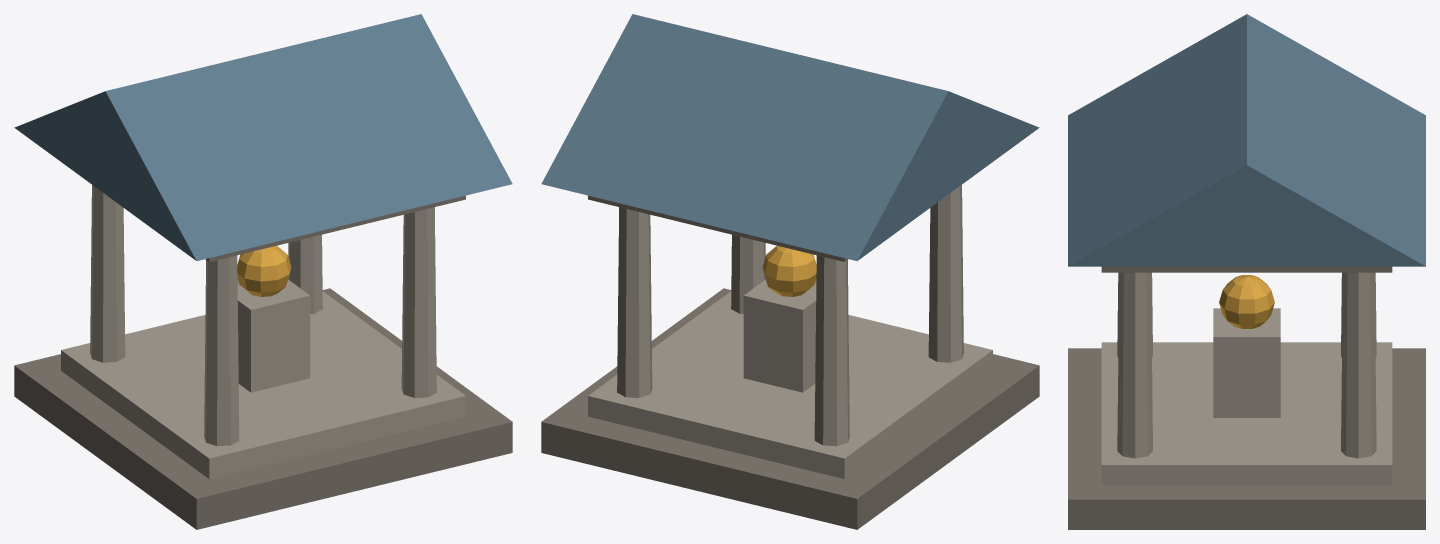
The model's file is shrine.glb.
3 views of the same model, side by side, from view 1: azimuth 30°, elevation 25°; view 2: azimuth 150°, elevation 25°; view 3: azimuth 270°, elevation 25° (orthographic). The views are drawn at different scales.
Visible parts, largest first — view 1: shrine; view 2: shrine; view 3: shrine.
Part boxes in pixels (x1=…): shrine: x1=14, y1=14, x2=512, y2=529; shrine: x1=541, y1=14, x2=1039, y2=529; shrine: x1=1068, y1=14, x2=1425, y2=529.
Size of the model in its own units: 3.2 by 3.6 by 3.2.
